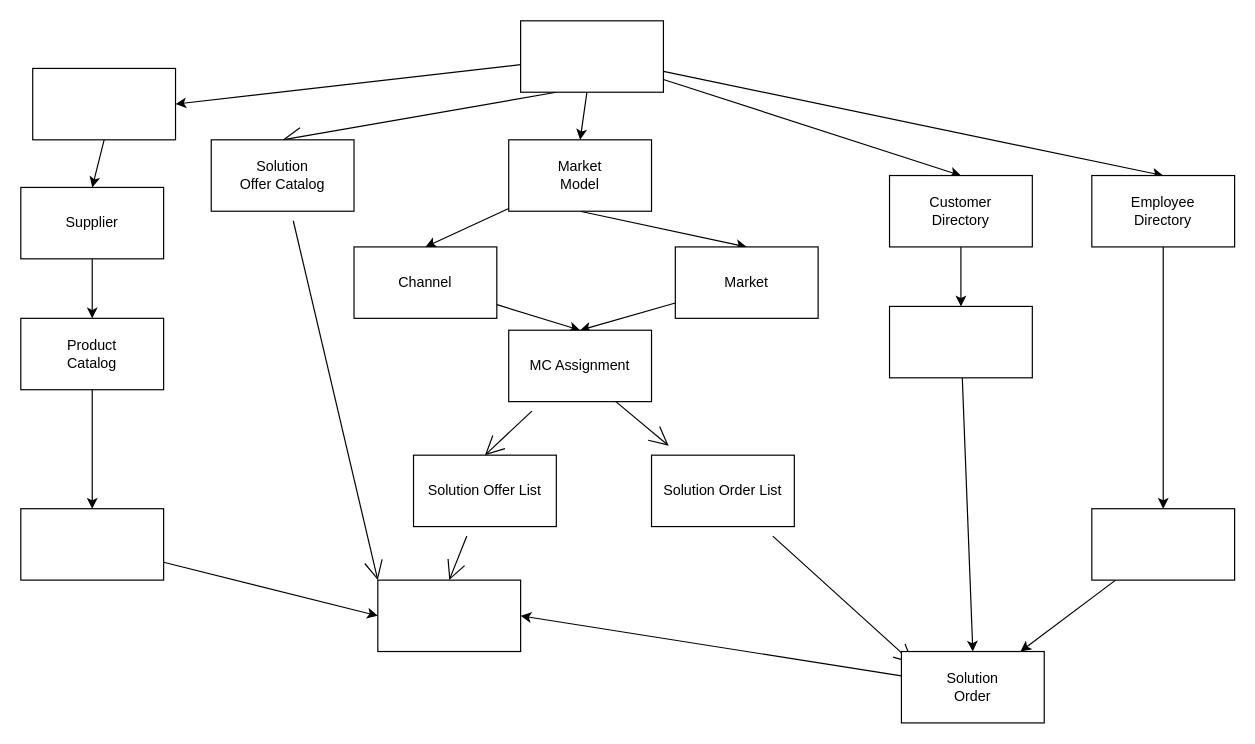
Image size: 1255x744. Some labels were removed from this diagram. The centre of each missing label's shape, as x and y in pixels:
Business: the point at 591,56
Customer Profile: the point at 960,341
Employee Profile: the point at 1163,544
Product: the point at 92,544
Solution Offer: the point at 449,615
Supplier Directory: the point at 104,103
